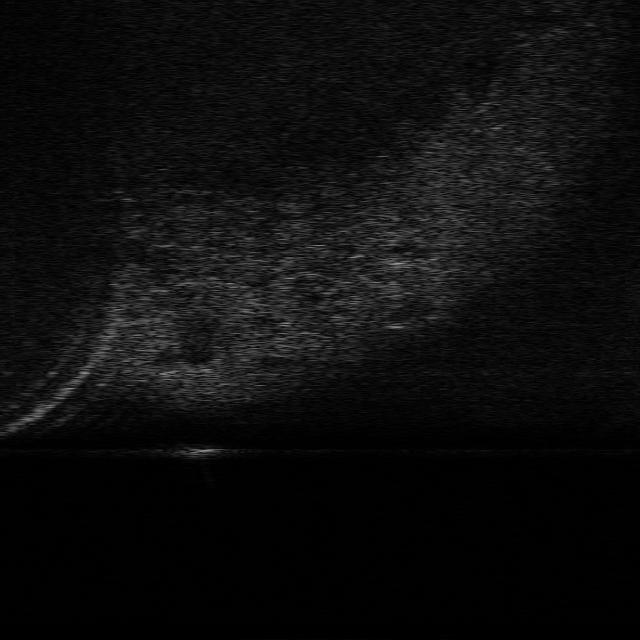cube: (162, 442, 228, 460)
